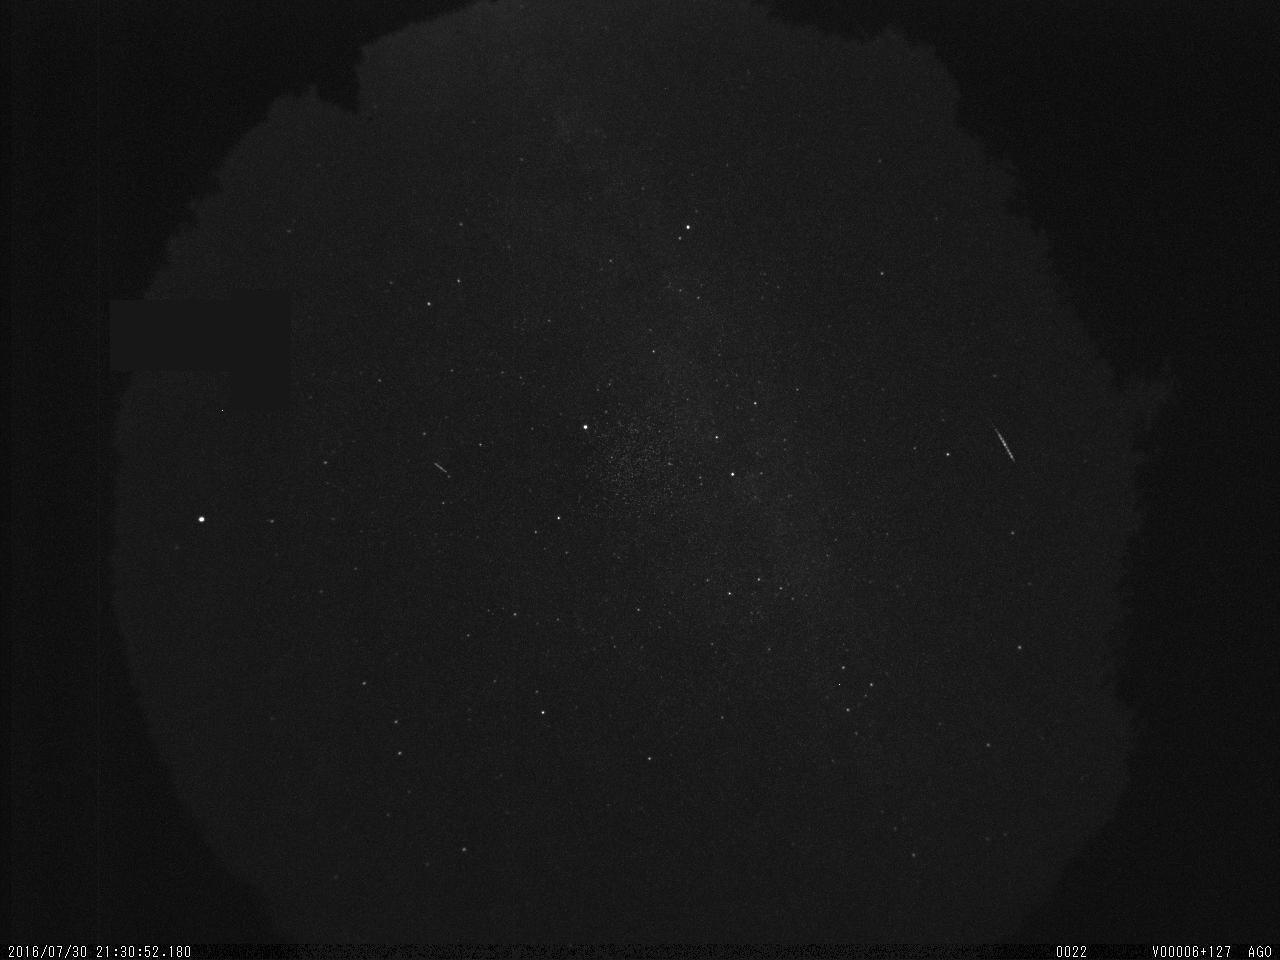Meteor: (993, 423, 1020, 467)
